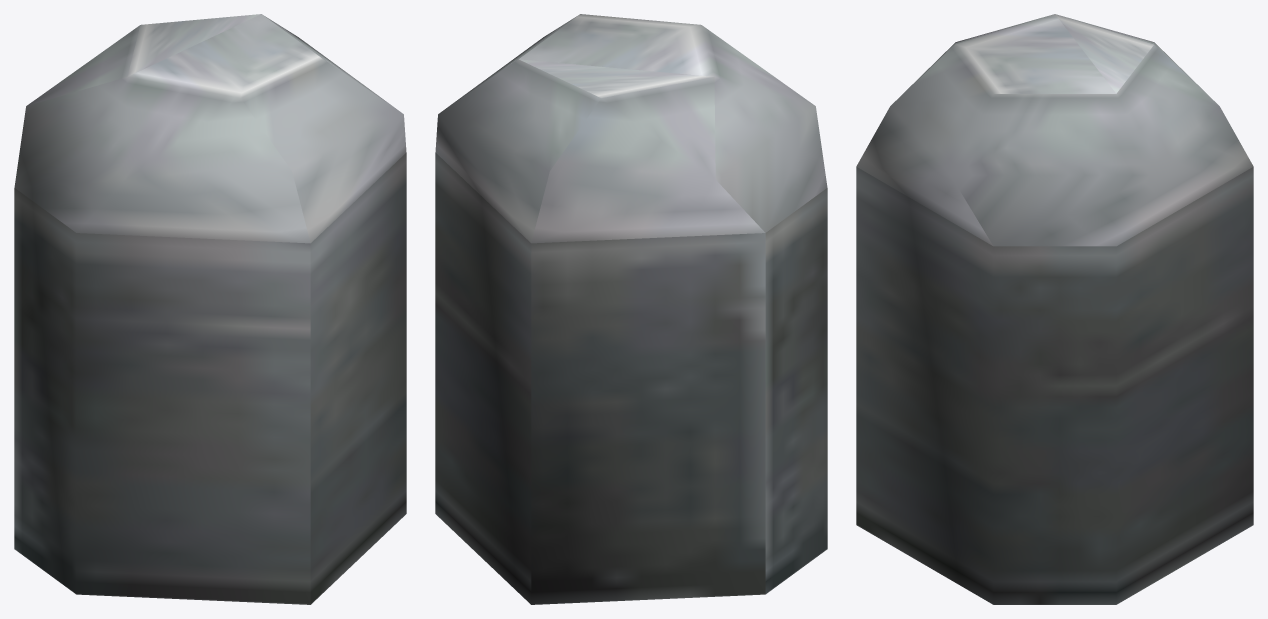
Rendered from imperial_gunboat_turretbase_nose_l2.fbx.
3 renders of one model, left to right at view 1: azimuth 30°, elevation 25°; view 2: azimuth 150°, elevation 25°; view 3: azimuth 270°, elevation 25°, orthographic.
Visible parts, largest first — view 1: mesh_node; view 2: mesh_node; view 3: mesh_node.
Boxes of the visible parts, left/top/right/bottom form: mesh_node: left=14, top=14, right=406, bottom=604; mesh_node: left=435, top=14, right=827, bottom=604; mesh_node: left=856, top=14, right=1253, bottom=604.
Size of the model in its own units: 2.99 by 4.12 by 3.15.
Materials: 1 (1 with a texture image).
